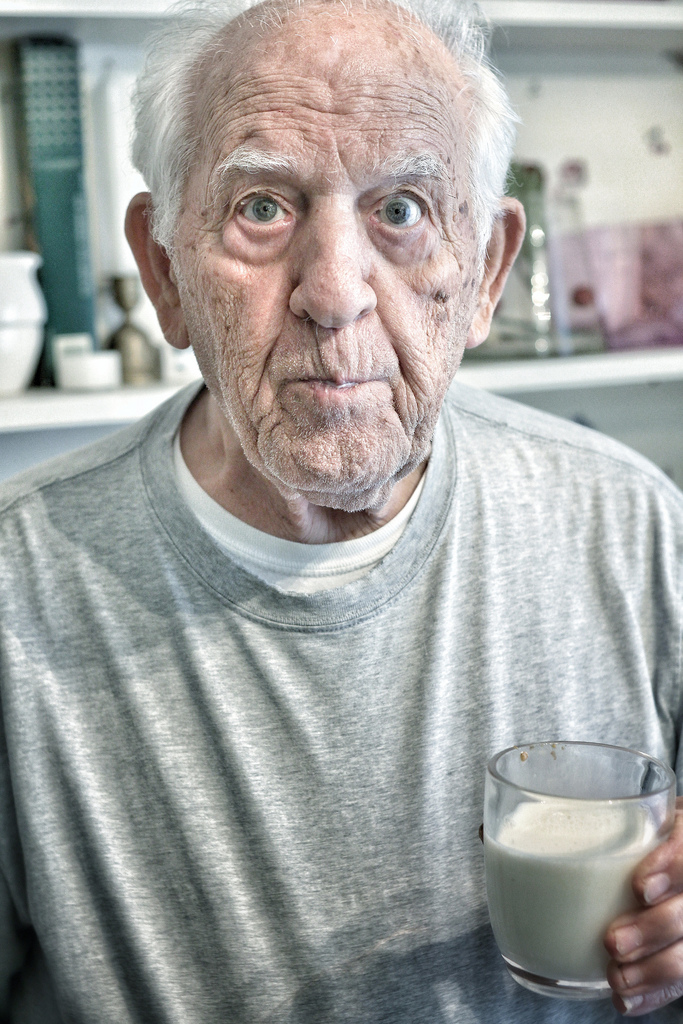glass of milk: (489, 739, 675, 999)
